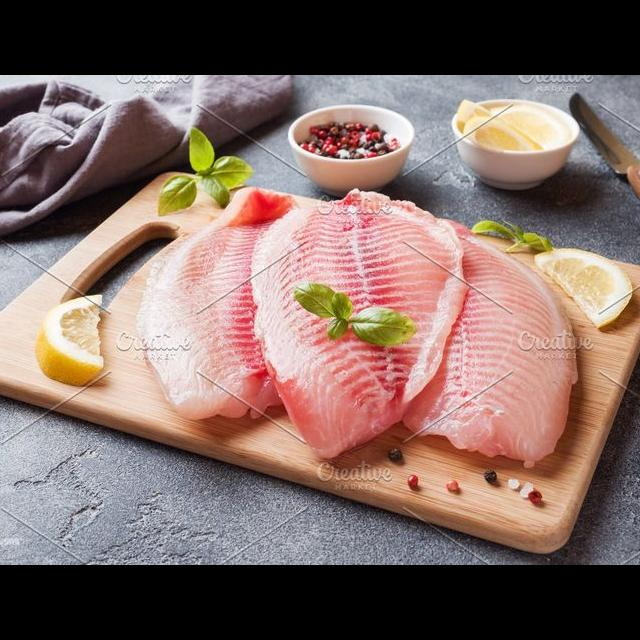fish: (247, 173, 475, 467)
